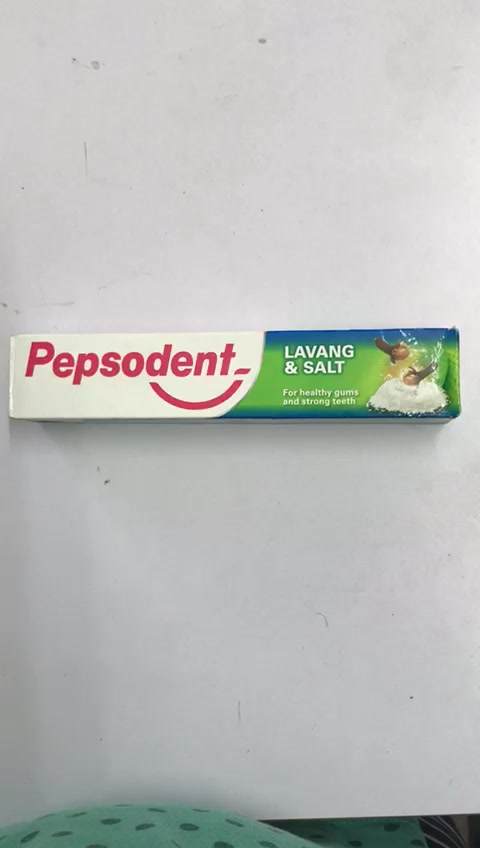pepsodent: (9, 331, 457, 416)
